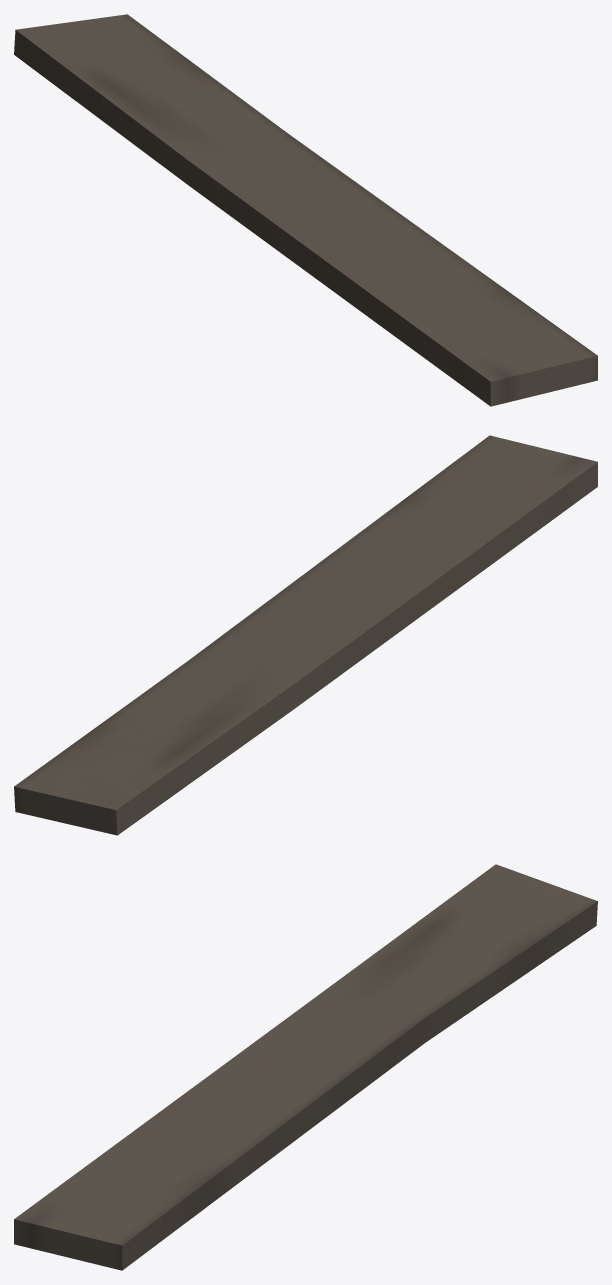
Rendered from SM_Bld_Platform_Wood_Plank_07.obj.
The picture shows the model from 3 angles, top to bottom: view 1: azimuth 30°, elevation 25°; view 2: azimuth 150°, elevation 25°; view 3: azimuth 330°, elevation 25°; orthographic projection.
Visible parts, largest first — view 1: SM_Bld_Platform_Wood_Plank_07_0; view 2: SM_Bld_Platform_Wood_Plank_07_0; view 3: SM_Bld_Platform_Wood_Plank_07_0.
Boxes of the visible parts, x1,y1,x2,y2 form: SM_Bld_Platform_Wood_Plank_07_0: (14, 14, 597, 406); SM_Bld_Platform_Wood_Plank_07_0: (14, 435, 597, 835); SM_Bld_Platform_Wood_Plank_07_0: (14, 864, 597, 1270).
Bounding box in the file's own units: 0.3262 × 0.0903 × 2.48.
Materials: 1 (1 with a texture image).
